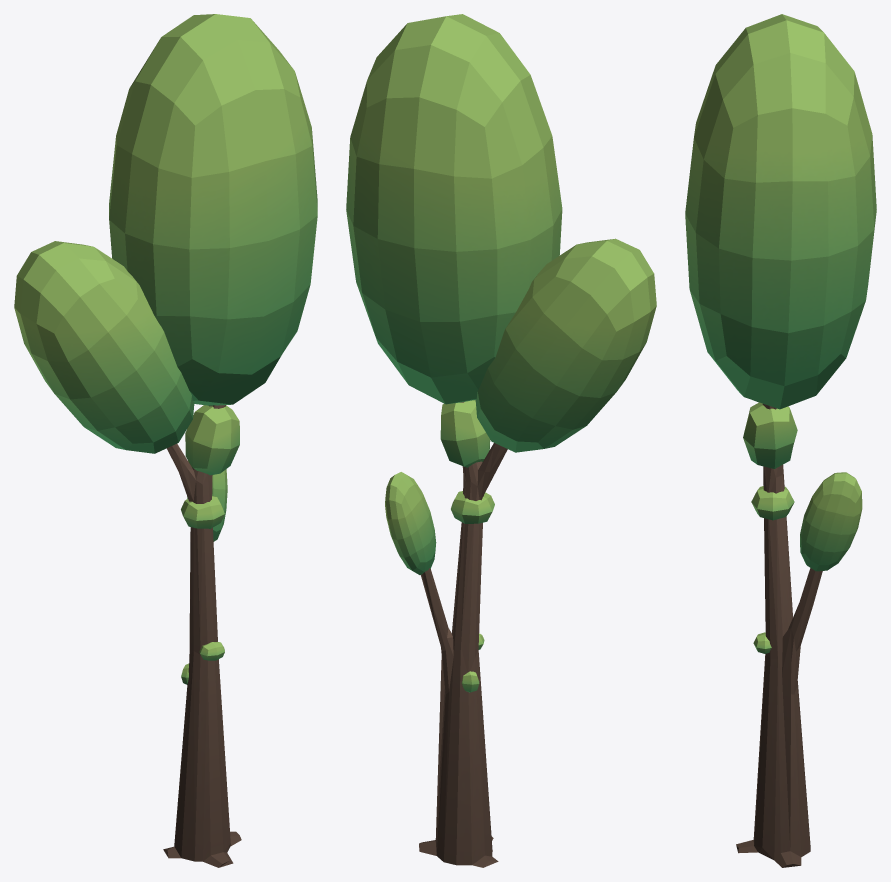
The model's file is Tree_1.fbx.
3 views of the same model, side by side, from view 1: azimuth 30°, elevation 25°; view 2: azimuth 150°, elevation 25°; view 3: azimuth 270°, elevation 25° (orthographic).
Visible parts, largest first — view 1: Tree_1; view 2: Tree_1; view 3: Tree_1.
Part boxes in pixels (bbox=[...]): Tree_1: bbox=[14, 14, 317, 867]; Tree_1: bbox=[346, 14, 656, 867]; Tree_1: bbox=[685, 14, 876, 867].
Size of the model in its own units: 2.2 by 10.59 by 3.84.
